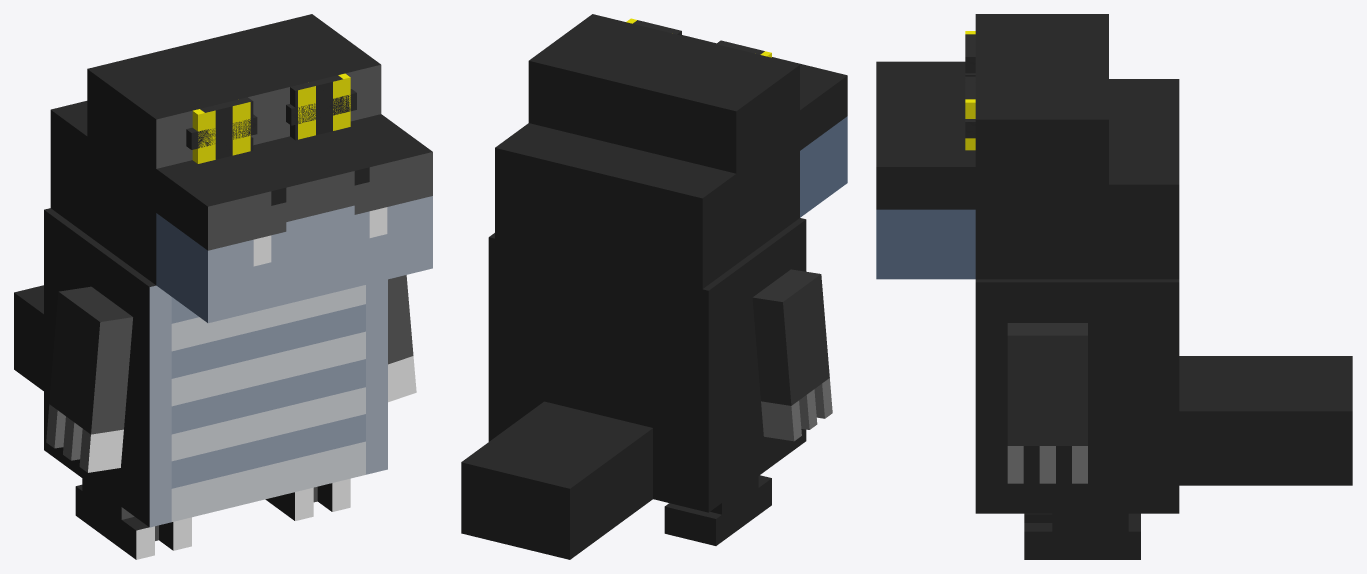
3 views of the same model, side by side, from view 1: azimuth 30°, elevation 25°; view 2: azimuth 150°, elevation 25°; view 3: azimuth 270°, elevation 25° (orthographic). The views are drawn at different scales.
Visible parts, largest first — view 1: Ch_24_Head, Ch_24, Ch_24_Hand_L, Ch_24_Eye_01, Ch_24_Leg_L, Ch_24_Hand_R, Ch_24_Tail, Ch_24_Eye_02, Ch_24_Leg_R, Ch_24_Eye_03_R; view 2: Ch_24_Head, Ch_24, Ch_24_Tail, Ch_24_Hand_L, Ch_24_Leg_L; view 3: Ch_24_Head, Ch_24, Ch_24_Tail, Ch_24_Hand_R, Ch_24_Leg_R.
Part boxes in pixels (left/top/right/bottom): Ch_24_Head: left=50, top=14, right=432, bottom=323; Ch_24: left=44, top=208, right=387, bottom=527; Ch_24_Hand_L: left=46, top=286, right=132, bottom=472; Ch_24_Eye_01: left=192, top=73, right=350, bottom=163; Ch_24_Leg_L: left=75, top=478, right=191, bottom=559; Ch_24_Hand_R: left=388, top=275, right=416, bottom=402; Ch_24_Tail: left=14, top=285, right=43, bottom=390; Ch_24_Eye_02: left=186, top=89, right=356, bottom=149; Ch_24_Leg_R: left=265, top=478, right=350, bottom=520; Ch_24_Eye_03_R: left=290, top=75, right=342, bottom=140; Ch_24_Head: left=495, top=14, right=847, bottom=289; Ch_24: left=488, top=218, right=806, bottom=512; Ch_24_Tail: left=461, top=401, right=652, bottom=559; Ch_24_Hand_L: left=752, top=269, right=832, bottom=441; Ch_24_Leg_L: left=664, top=475, right=771, bottom=545; Ch_24_Head: left=876, top=14, right=1179, bottom=279; Ch_24: left=975, top=279, right=1179, bottom=513; Ch_24_Tail: left=1179, top=356, right=1352, bottom=485; Ch_24_Hand_R: left=1007, top=323, right=1087, bottom=483; Ch_24_Leg_R: left=1024, top=513, right=1140, bottom=559.
Bounding box in the file's own units: 8.61 × 11.52 × 11.23.
